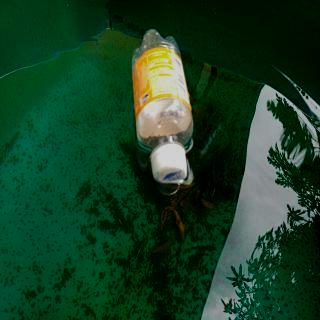bottle: (133, 26, 195, 184)
